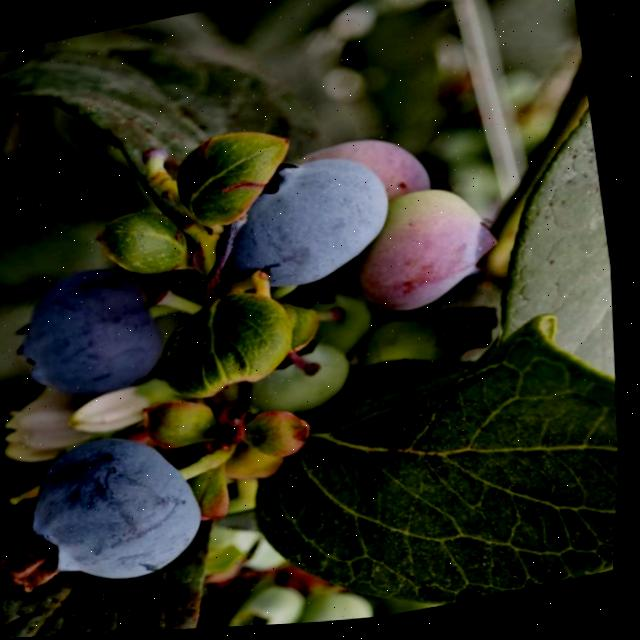RipeBlueBerry: (8, 421, 213, 602), (198, 130, 403, 306), (1, 239, 184, 411)
Semi-RipeBlueBerry: (356, 166, 517, 328)
